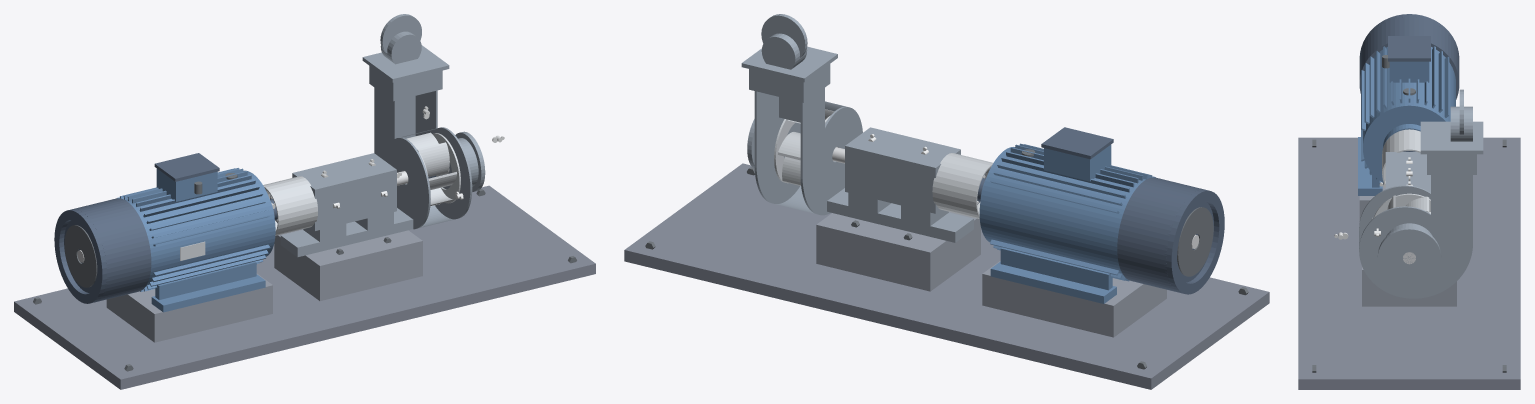
The model's file is pump.glb.
3 renders of one model, left to right at view 1: azimuth 30°, elevation 25°; view 2: azimuth 150°, elevation 25°; view 3: azimuth 270°, elevation 25°, orthographic. The views are drawn at different scales.
Visible parts, largest first — view 1: PART_001, CASING_MOTORBODY_006, PART_073, CASING_FINS_009, CASING_FRAME_052, PART_022, CASING_COWL_010, CASING_VOLUTE_075, CASING_GUARD_050, CASING_VOLUTE_076, CASING_COWL_011, PART_021 (+17 smaller); view 2: PART_001, CASING_MOTORBODY_006, PART_073, CASING_FRAME_052, PART_022, CASING_COWL_010, CASING_VOLUTE_075, CASING_FINS_009, CASING_VOLUTE_076, CASING_GUARD_050, CASING_COWL_011, PART_019 (+15 smaller); view 3: PART_001, CASING_VOLUTE_076, CASING_SUCTION_093, CASING_FINS_009, CASING_COWL_010, CASING_ENDBELL_007, CASING_MOTORBODY_006, CASING_VOLUTE_081, PART_073, CASING_FRAME_052, PART_014, CASING_VOLUTE_080 (+10 smaller).
Part boxes in pixels (<box>): PART_001: <box>14,185,595,389</box>; CASING_MOTORBODY_006: <box>125,174,274,286</box>; PART_073: <box>274,229,422,300</box>; CASING_FINS_009: <box>117,168,270,291</box>; CASING_FRAME_052: <box>292,153,396,230</box>; PART_022: <box>106,273,272,342</box>; CASING_COWL_010: <box>64,198,151,301</box>; CASING_VOLUTE_075: <box>374,87,430,229</box>; CASING_GUARD_050: <box>263,176,317,235</box>; CASING_VOLUTE_076: <box>415,90,472,219</box>; CASING_COWL_011: <box>54,209,108,303</box>; PART_021: <box>155,261,256,299</box>; PART_001: <box>624,163,1269,389</box>; CASING_MOTORBODY_006: <box>980,147,1145,275</box>; PART_073: <box>816,212,980,291</box>; CASING_FRAME_052: <box>845,127,960,213</box>; PART_022: <box>982,261,1166,337</box>; CASING_COWL_010: <box>1117,177,1213,292</box>; CASING_VOLUTE_075: <box>800,88,862,215</box>; CASING_FINS_009: <box>990,143,1155,281</box>; CASING_VOLUTE_076: <box>754,91,799,203</box>; CASING_GUARD_050: <box>932,153,993,218</box>; CASING_COWL_011: <box>1164,189,1224,294</box>; PART_019: <box>1000,247,1112,290</box>; PART_001: <box>1298,137,1520,389</box>; CASING_VOLUTE_076: <box>1359,175,1472,298</box>; CASING_SUCTION_093: <box>1377,227,1441,286</box>; CASING_FINS_009: <box>1361,46,1449,184</box>; CASING_COWL_010: <box>1359,16,1459,99</box>; CASING_ENDBELL_007: <box>1363,100,1449,182</box>; CASING_MOTORBODY_006: <box>1363,47,1455,142</box>; CASING_VOLUTE_081: <box>1420,121,1483,154</box>; PART_073: <box>1362,267,1456,306</box>; CASING_FRAME_052: <box>1385,152,1430,192</box>; PART_014: <box>1388,36,1430,61</box>; CASING_VOLUTE_080: <box>1427,154,1476,174</box>.
Size of the model in its own units: 3.6 by 1.66 by 1.4.
